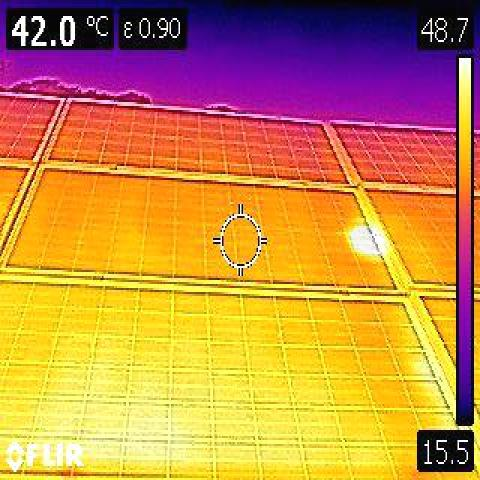fault: (350, 223, 374, 255)
